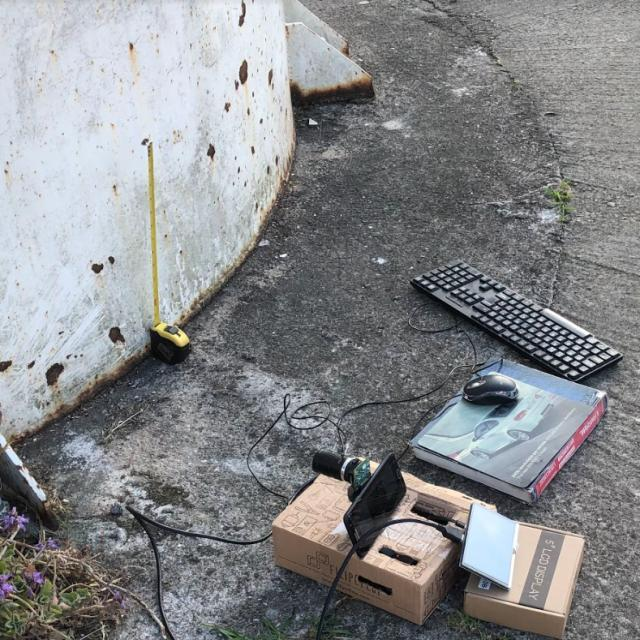Corrosion: (175, 116, 300, 331), (6, 342, 155, 450), (289, 75, 374, 111), (43, 362, 64, 386), (106, 324, 126, 346), (237, 0, 250, 28), (338, 38, 352, 60), (239, 57, 250, 84), (0, 355, 15, 374), (205, 142, 219, 162), (88, 260, 105, 276), (15, 458, 28, 477), (264, 67, 276, 86), (63, 350, 84, 360), (282, 23, 296, 34), (271, 153, 281, 168), (126, 40, 138, 52), (222, 101, 233, 114), (108, 256, 119, 268), (233, 77, 242, 90), (27, 360, 37, 371), (36, 483, 44, 496), (250, 144, 257, 157), (242, 181, 250, 191), (234, 165, 244, 172)
